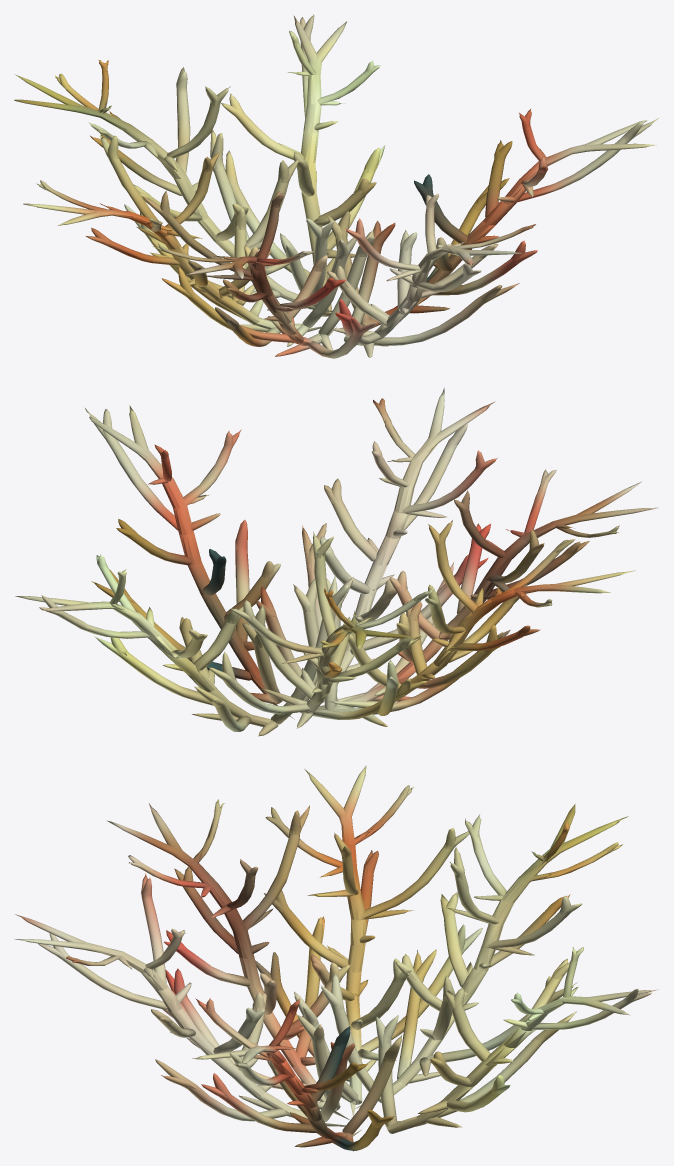
The model's file is plant_51.fbx.
3 renders of one model, top to bottom at view 1: azimuth 30°, elevation 25°; view 2: azimuth 150°, elevation 25°; view 3: azimuth 270°, elevation 25°, orthographic. The views are drawn at different scales.
Visible parts, largest first — view 1: XiaoShanHu_10; view 2: XiaoShanHu_10; view 3: XiaoShanHu_10.
Part boxes in pixels (box(x1,y1,x2,y2)): XiaoShanHu_10: box(14, 14, 658, 358); XiaoShanHu_10: box(15, 387, 658, 736); XiaoShanHu_10: box(14, 765, 659, 1151).
Bounding box in the file's own units: 27.7 × 10.69 × 25.98.
